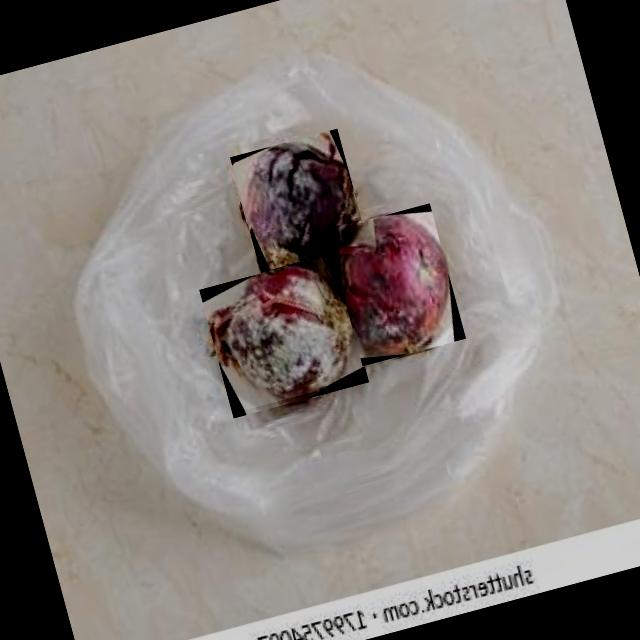rotten: (208, 266, 355, 400), (340, 214, 449, 353), (245, 135, 354, 266)
